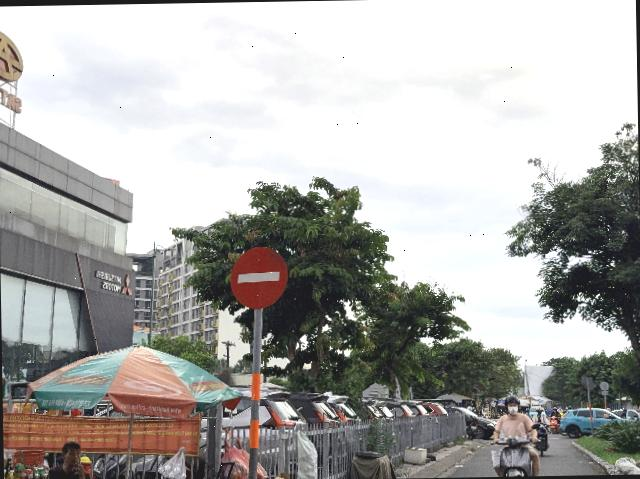cam-di-nguoc-chieu: (230, 245, 290, 309)
